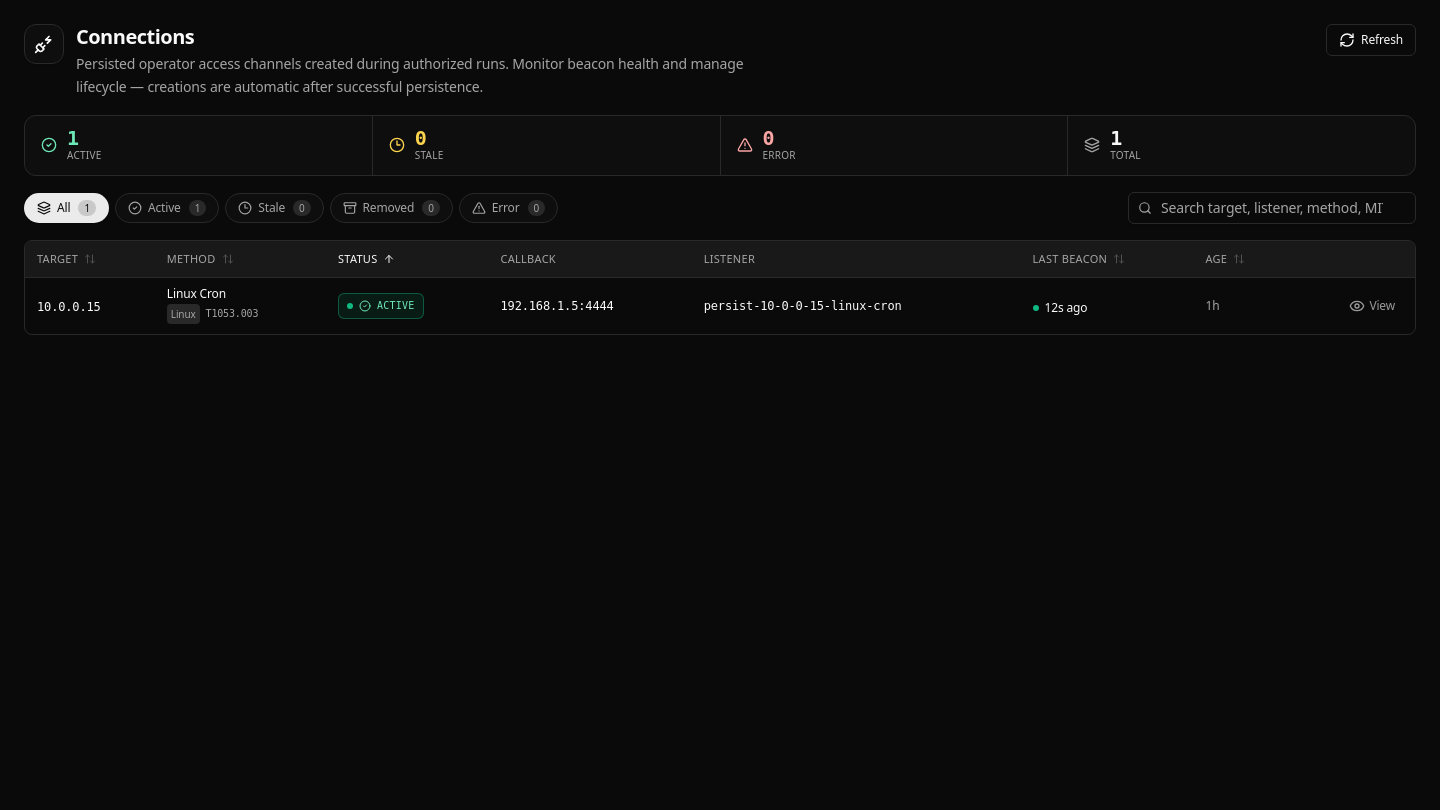
ConnectionsPage › drawer opens from row click
The width and height of the screenshot is (1440, 810).
Click the button with aria-label "Open details for 10.0.0.15" at {"x": 720, "y": 305}, box [25, 277, 1415, 334]
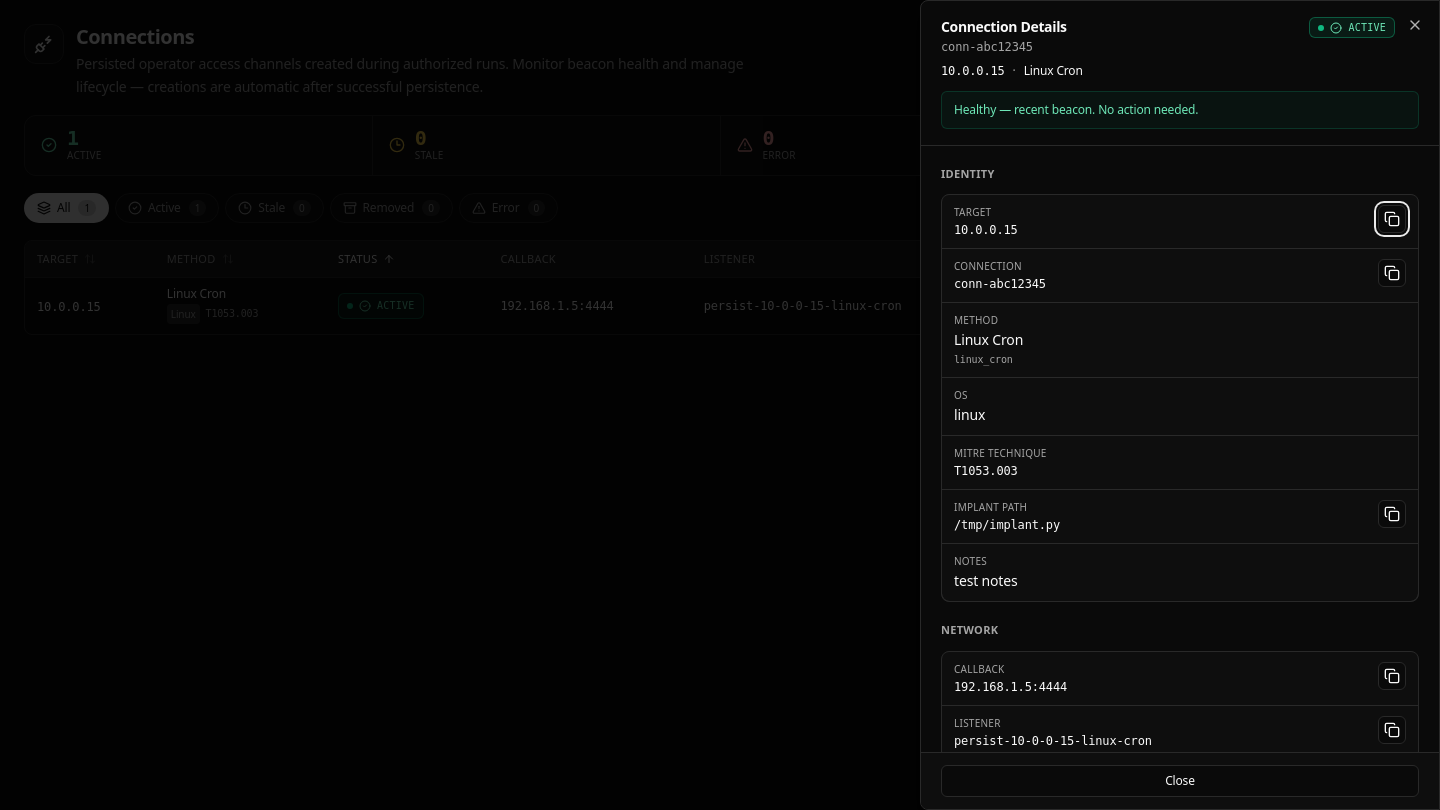
Now the heading "Connection Details" is shown, box [941, 17, 1083, 37]
